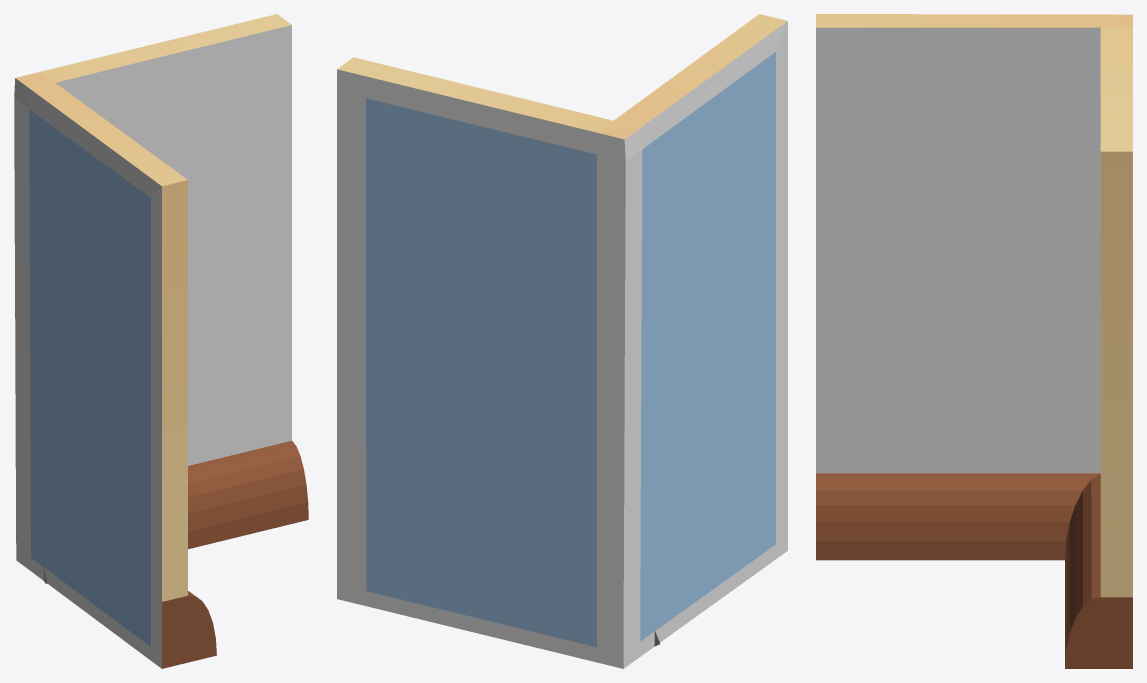
Rendered from Corner-A.fbx.
3 renders of one model, left to right at view 1: azimuth 30°, elevation 25°; view 2: azimuth 150°, elevation 25°; view 3: azimuth 270°, elevation 25°, orthographic. The views are drawn at different scales.
Visible parts, largest first — view 1: Corner A; view 2: Corner A; view 3: Corner A.
Part boxes in pixels (x1,y1,x2,y2): Corner A: (14,14,308,668); Corner A: (337,14,787,668); Corner A: (816,14,1132,668).
Bounding box in the file's own units: 411 × 721 × 400.
